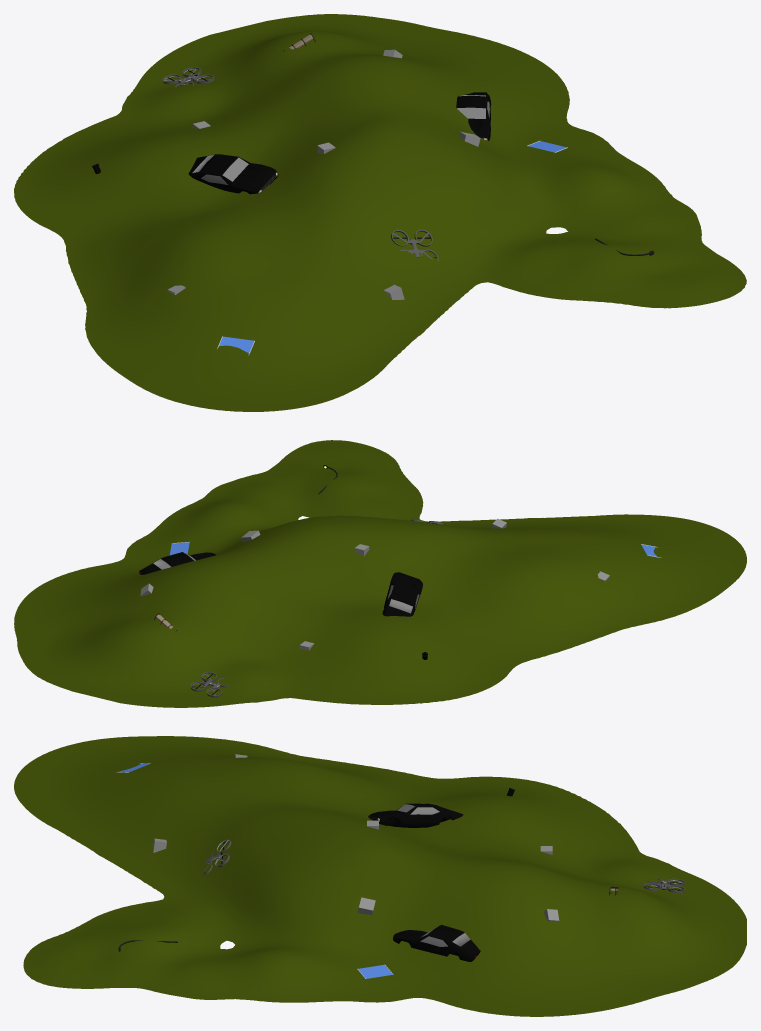
File: Dump.fbx
The picture shows the model from 3 angles, top to bottom: view 1: azimuth 30°, elevation 25°; view 2: azimuth 150°, elevation 25°; view 3: azimuth 270°, elevation 25°; orthographic projection. The views are drawn at different scales.
Parts seen in each view (by area): view 1: Plane, Car, Car.001; view 2: Plane, Car, Car.001; view 3: Plane, Car.001, Car.
Part boxes in pixels (x1=…): Plane: x1=14, y1=14, x2=746, y2=411; Car: x1=188, y1=154, x2=278, y2=194; Car.001: x1=456, y1=92, x2=491, y2=140; Plane: x1=14, y1=440, x2=746, y2=707; Car: x1=382, y1=572, x2=422, y2=616; Car.001: x1=139, y1=552, x2=215, y2=574; Plane: x1=14, y1=736, x2=746, y2=1016; Car.001: x1=393, y1=925, x2=480, y2=961; Car: x1=368, y1=803, x2=463, y2=827.
Size of the model in its own units: 6546 by 664 by 7222.
